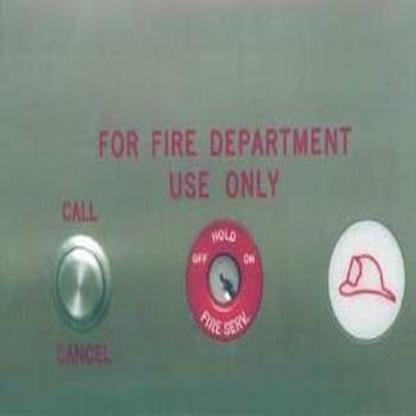empty: (51, 234, 111, 332)
keyhole: (184, 219, 262, 341)
unknown: (326, 218, 404, 339)
